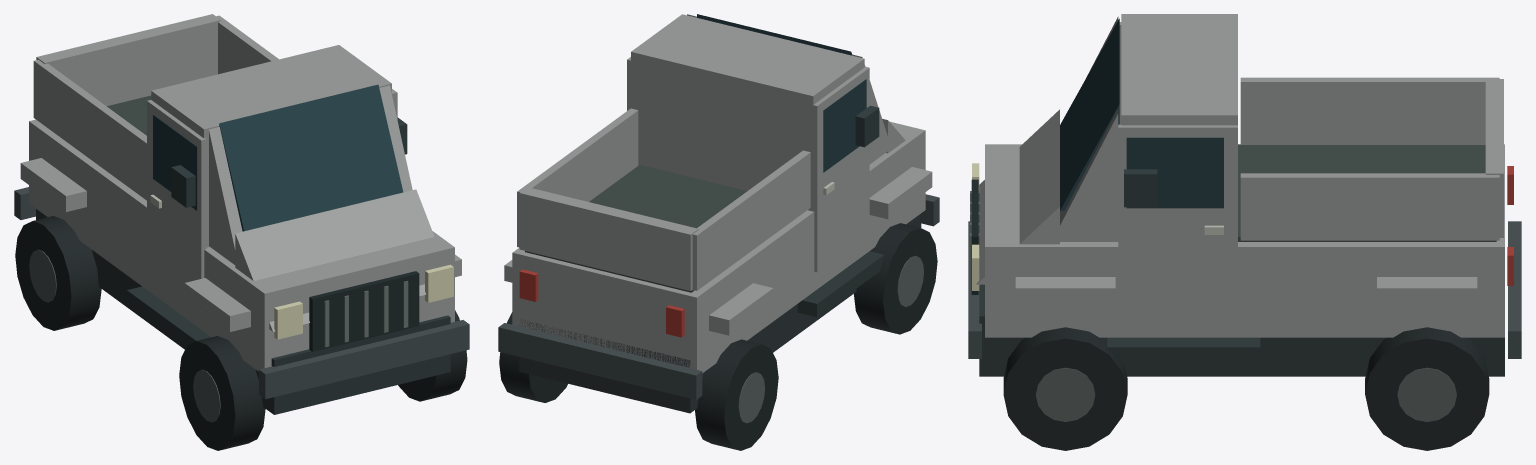
The model's file is CMU3DReduxAU14VehicleCivCivTruck1.glb.
3 renders of one model, left to right at view 1: azimuth 30°, elevation 25°; view 2: azimuth 150°, elevation 25°; view 3: azimuth 270°, elevation 25°, orthographic. The views are drawn at different scales.
Visible parts, largest first — view 1: lower vehicle body, windshield, rubber road tire (×3), cab bulkhead, front hood, tailgate, bed side wall (×2), bumper (×2), cab door skin, sealed chassis, front grille, sloping cab frame (+7 smaller); view 2: cab bulkhead, lower vehicle body, rubber road tire (×3), bed side wall (×2), tailgate, cab door skin, bumper (×2), cargo bed floor, sealed chassis, wheel fender (×2), side window, running board (+5 smaller); view 3: lower vehicle body, bed side wall (×2), rubber road tire (×2), cab door skin, cab bulkhead, sealed chassis, cargo bed floor, side window, wheel fender (×2), windshield, front hood, recessed metal wheel hub (×2) (+6 smaller).
Boxes of the visible parts, box(x1,y1,x2,y2) form: lower vehicle body: box(29, 119, 454, 371); windshield: box(219, 84, 403, 231); rubber road tire (×3): box(15, 216, 467, 450); cab bulkhead: box(151, 45, 391, 247); front hood: box(235, 189, 434, 331); tailgate: box(36, 14, 220, 106); bed side wall (×2): box(33, 15, 278, 200); bumper (×2): box(14, 187, 469, 399); cab door skin: box(147, 100, 206, 311); sealed chassis: box(36, 209, 450, 414); front grille: box(309, 271, 419, 351); sloping cab frame: box(209, 85, 412, 266); cab bulkhead: box(631, 14, 864, 211); lower vehicle body: box(512, 121, 925, 373); rubber road tire (×3): box(499, 223, 937, 450); bed side wall (×2): box(517, 108, 810, 290); tailgate: box(519, 187, 698, 290); cab door skin: box(811, 66, 869, 272); bumper (×2): box(498, 194, 939, 399); cargo bed floor: box(525, 164, 747, 292); sealed chassis: box(519, 214, 921, 413); wheel fender (×2): box(709, 167, 932, 335); side window: box(823, 79, 866, 172); running board: box(797, 251, 884, 317); lower vehicle body: box(985, 144, 1504, 337); bed side wall (×2): box(1240, 77, 1499, 240); rubber road tire (×2): box(1003, 327, 1489, 450); cab door skin: box(1118, 124, 1237, 316); cab bulkhead: box(1121, 14, 1237, 125); sealed chassis: box(979, 284, 1504, 376); cargo bed floor: box(1238, 144, 1496, 241); side window: box(1126, 137, 1223, 208); wheel fender (×2): box(1015, 277, 1477, 305); windshield: box(1060, 18, 1119, 210); front hood: box(976, 109, 1059, 284); recessed metal wheel hub (×2): box(1036, 367, 1456, 421).
Size of the model in its own units: 1.07 by 1.3 by 1.99.
